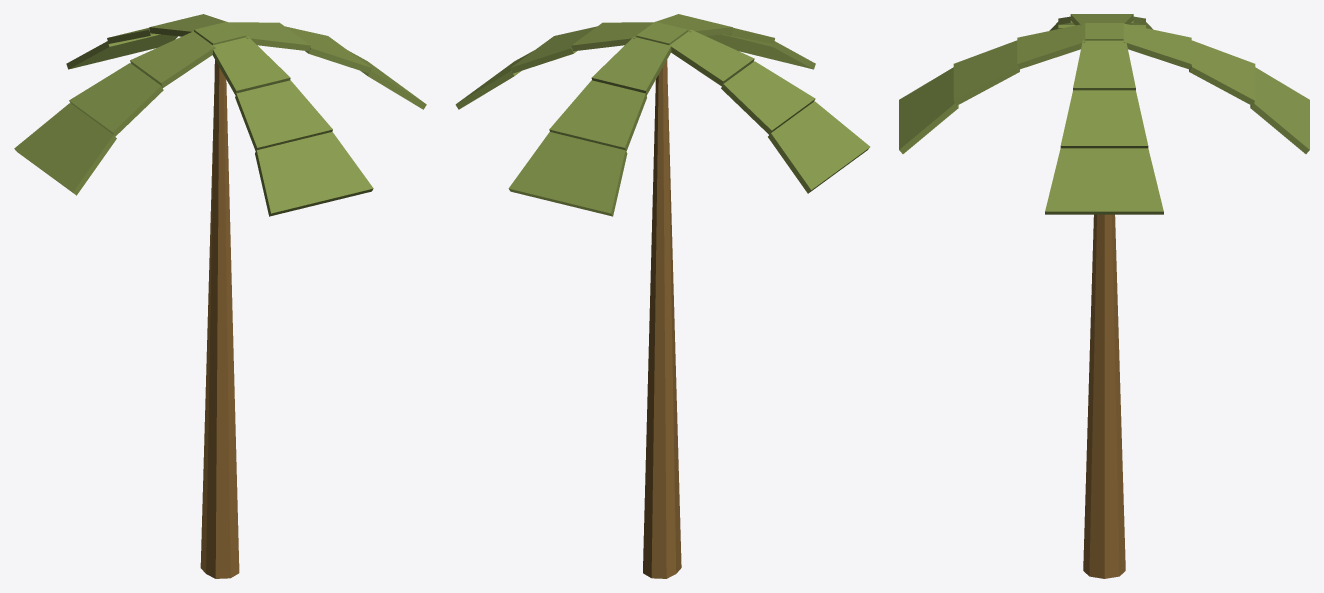
File: Tree_1.FBX
The picture shows the model from 3 angles, left to right: view 1: azimuth 30°, elevation 25°; view 2: azimuth 150°, elevation 25°; view 3: azimuth 270°, elevation 25°; orthographic projection.
Parts seen in each view (by area): view 1: Tree_1; view 2: Tree_1; view 3: Tree_1.
Boxes of the visible parts, x1=… form: Tree_1: x1=14, y1=14, x2=426, y2=578; Tree_1: x1=455, y1=14, x2=870, y2=578; Tree_1: x1=899, y1=14, x2=1309, y2=578.
Size of the model in its own units: 3.29 by 4.76 by 3.28.
Materials: 1 (1 with a texture image).
